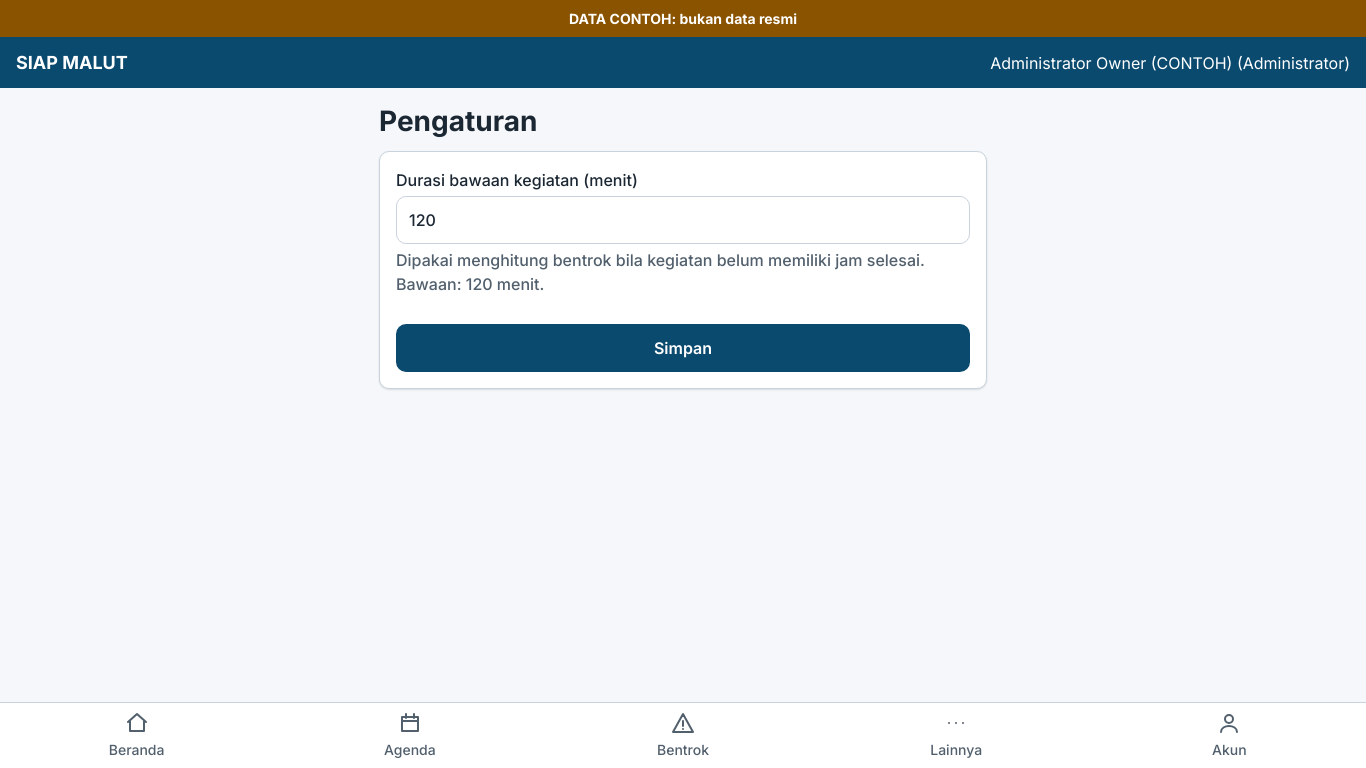
Test: KB-036 dan KB-016: pengaturan dan log audit › KB-036: admin mengubah durasi bawaan lewat PUT
Step 1. Replace the text in the number field showing "120" with "90" → (683, 220), box 396,196 -> 970,244
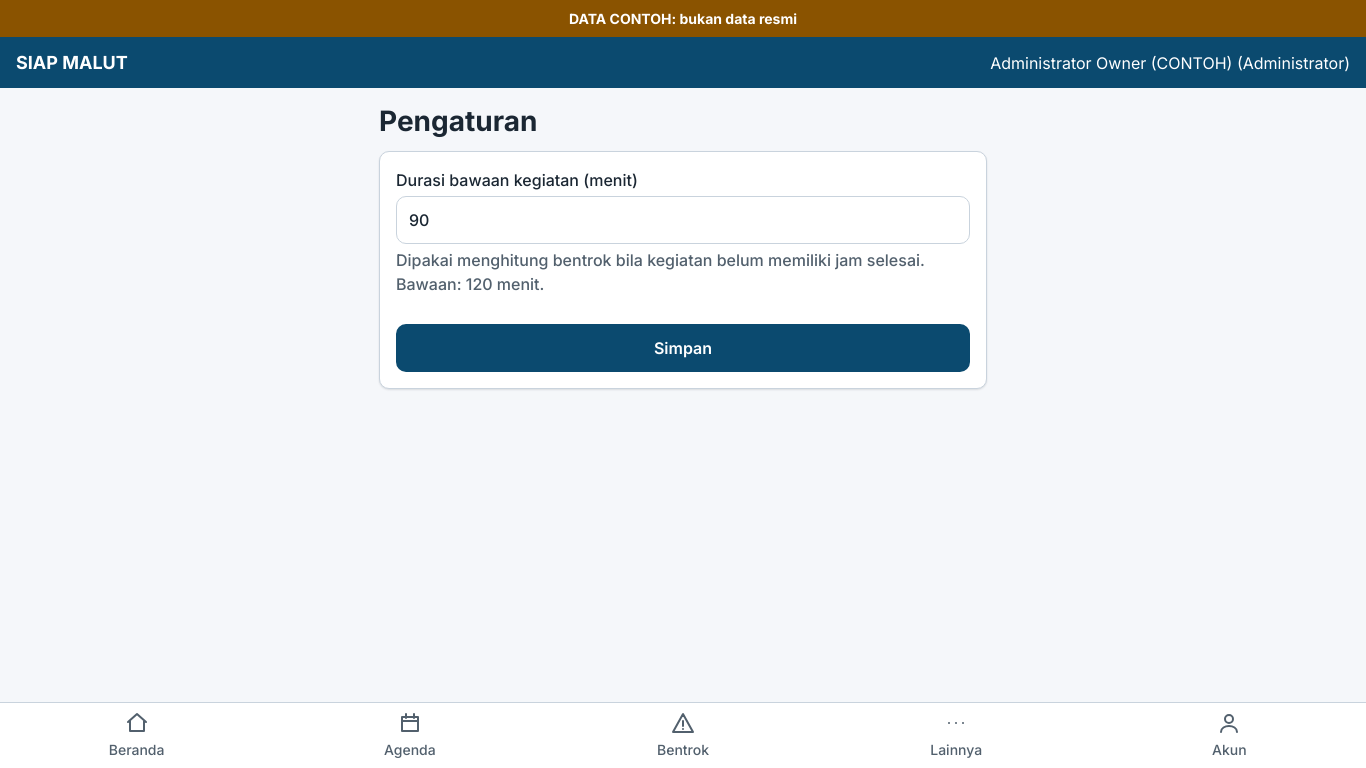
Step 2. Click the button "Simpan" → (683, 348), box 396,324 -> 970,372
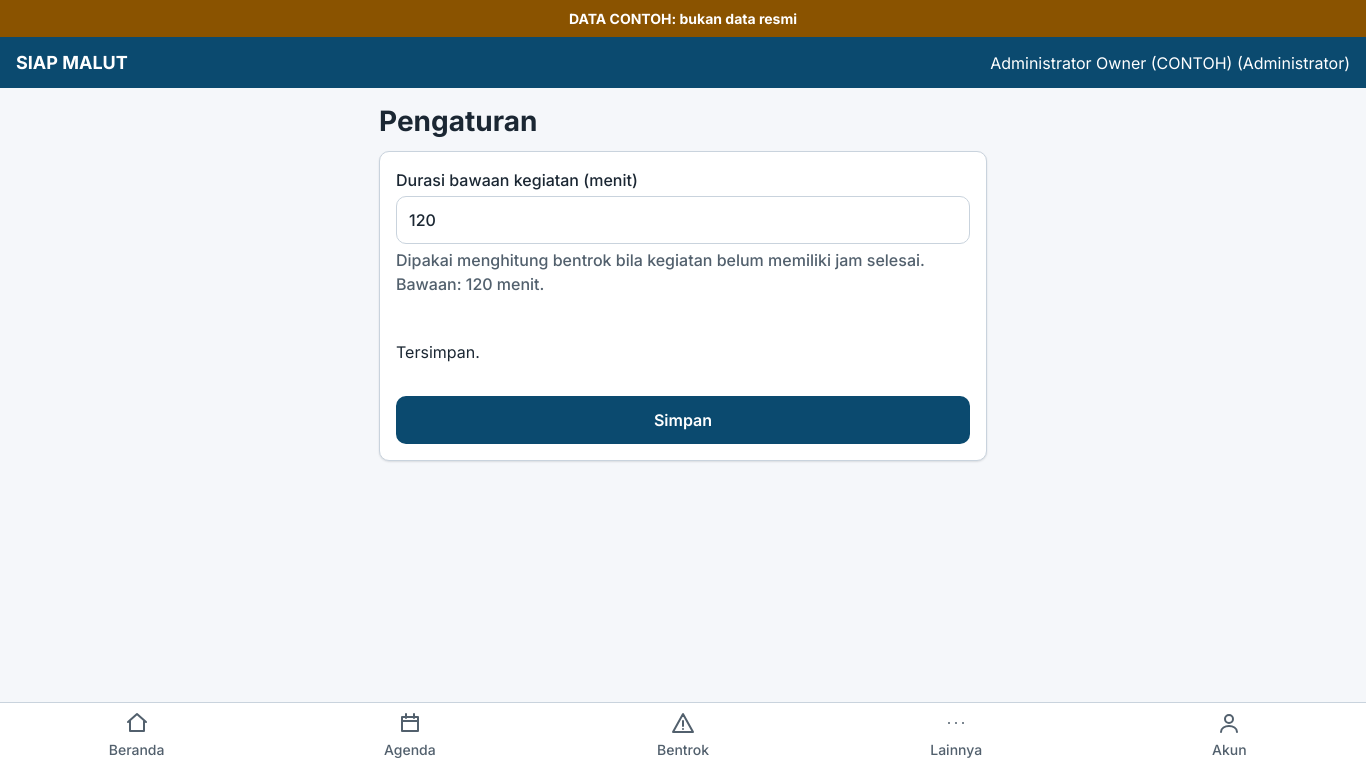
expect the text "Tersimpan." is shown: met, box 396,342 -> 480,362
